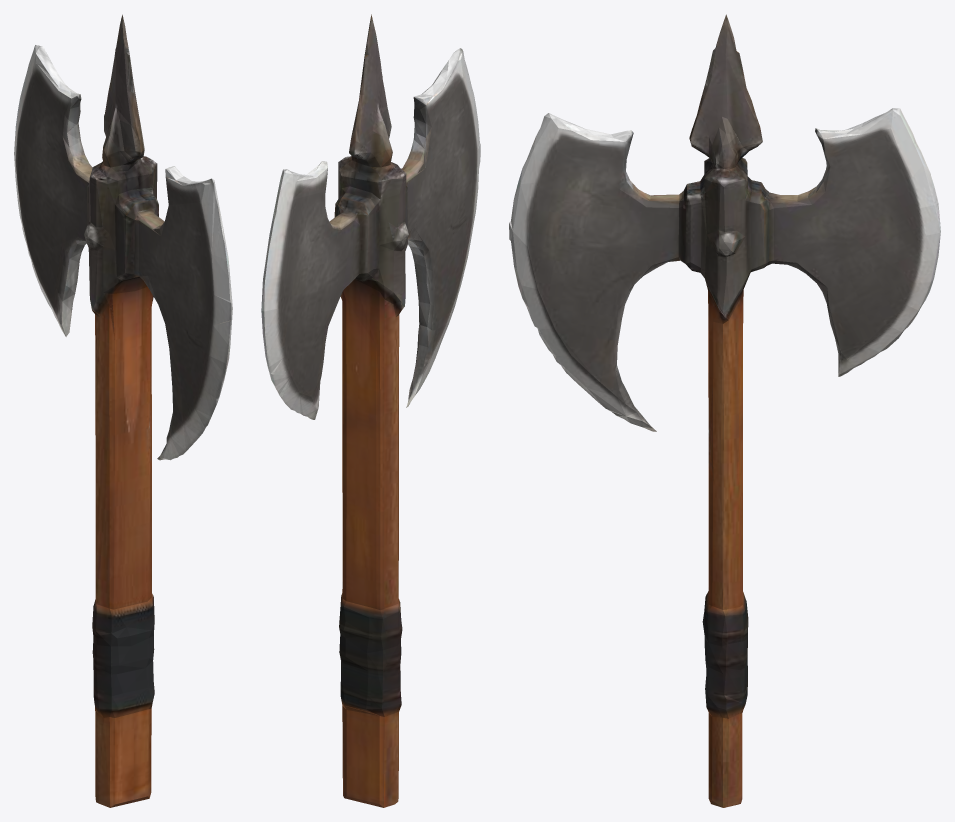
The model's file is axe_battle_upright_lod0.glb.
3 renders of one model, left to right at view 1: azimuth 30°, elevation 25°; view 2: azimuth 150°, elevation 25°; view 3: azimuth 270°, elevation 25°, orthographic.
Visible parts, largest first — view 1: axe_battle_upright_lod0; view 2: axe_battle_upright_lod0; view 3: axe_battle_upright_lod0.
Part boxes in pixels (x1,y1,x2,y2): axe_battle_upright_lod0: (14, 14, 232, 807); axe_battle_upright_lod0: (261, 14, 480, 807); axe_battle_upright_lod0: (509, 14, 940, 807).
Bounding box in the file's own units: 0.0948 × 0.9957 × 0.4978.
1 material, 1 textured.
